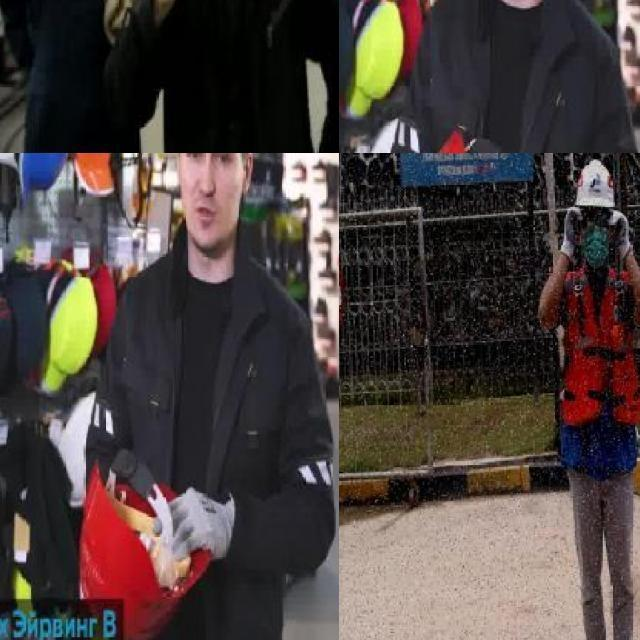apron: (152, 484, 227, 566), (559, 204, 582, 262), (608, 212, 634, 260)
